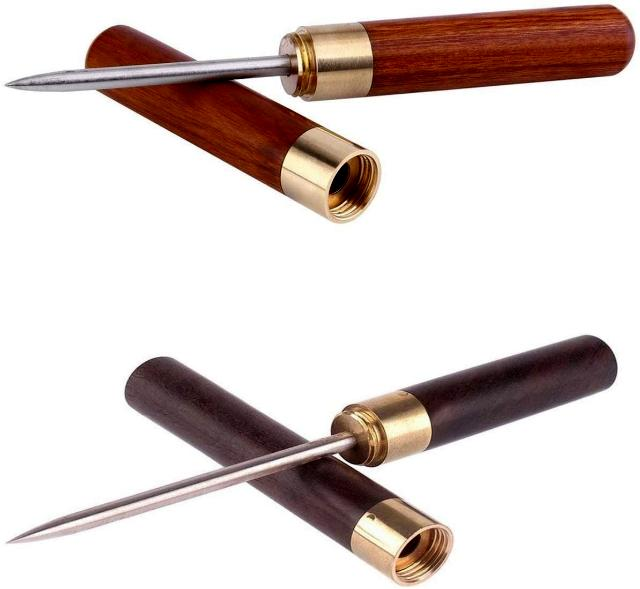ice pick: (5, 335, 617, 545), (125, 354, 457, 586), (5, 5, 635, 104), (86, 24, 380, 223)
